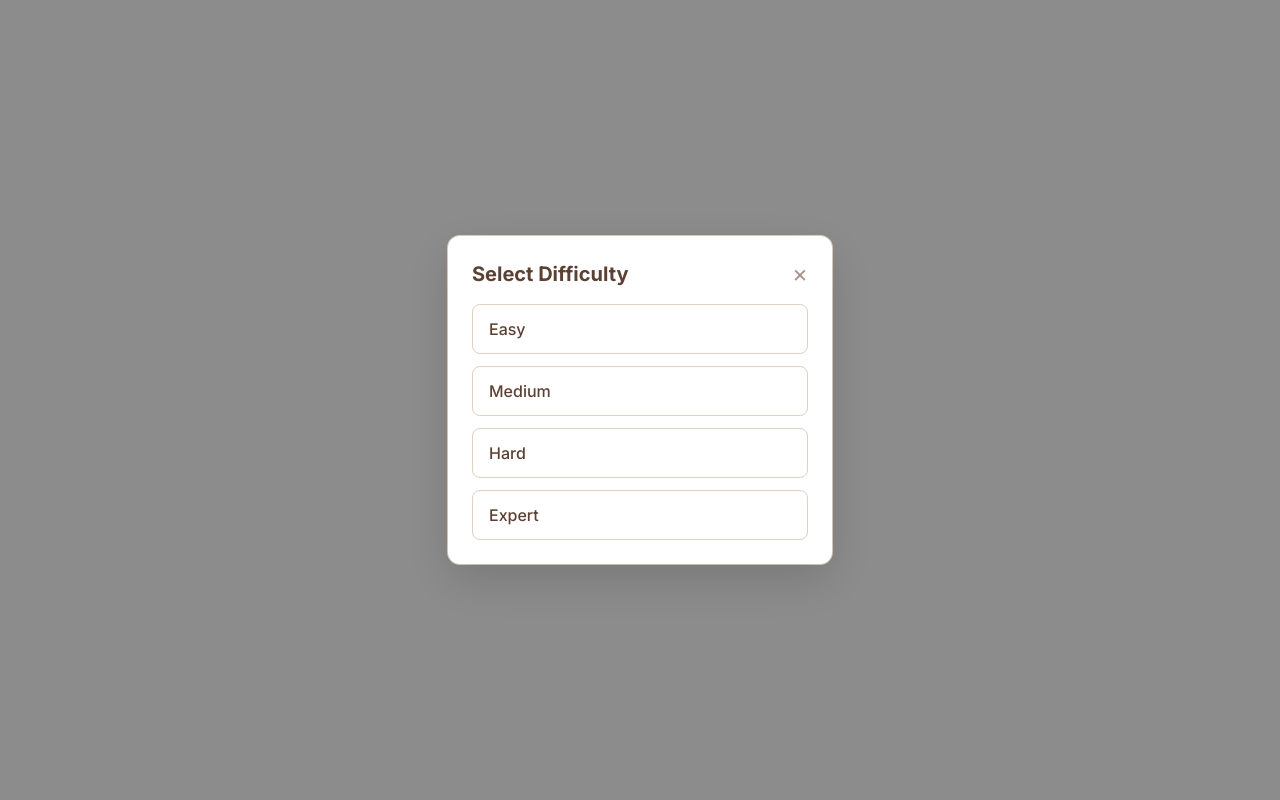
Test: NewGameModal › shows puzzle type step after selecting a difficulty
This screenshot has width=1280, height=800.
Expected: the element with test id "step-difficulty" is shown, [472,304,808,540]
Select "Hard" difficulty
Click the button "Hard" at (507, 453), box [472,428,808,478]
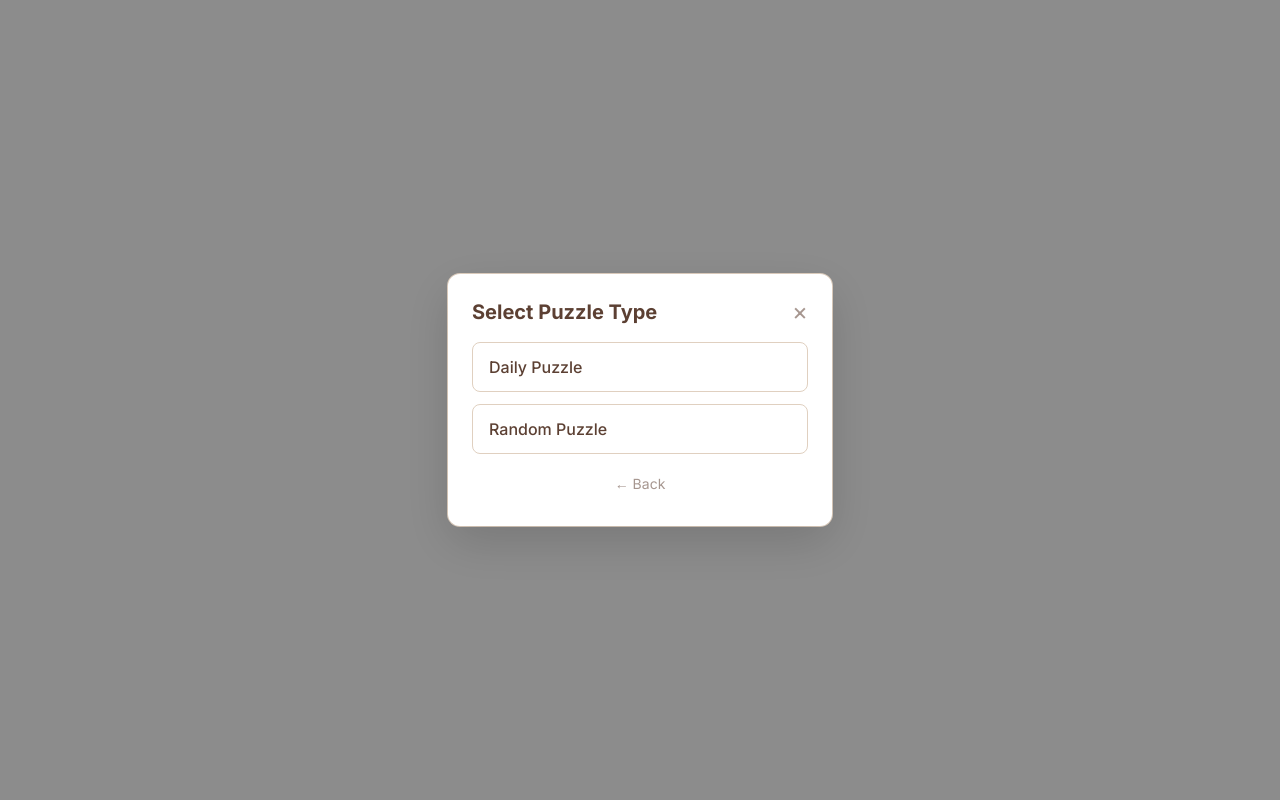
Expected: the element with test id "step-difficulty" is gone
Expected: the element with test id "step-puzzle-type" is shown, [472,342,808,502]
